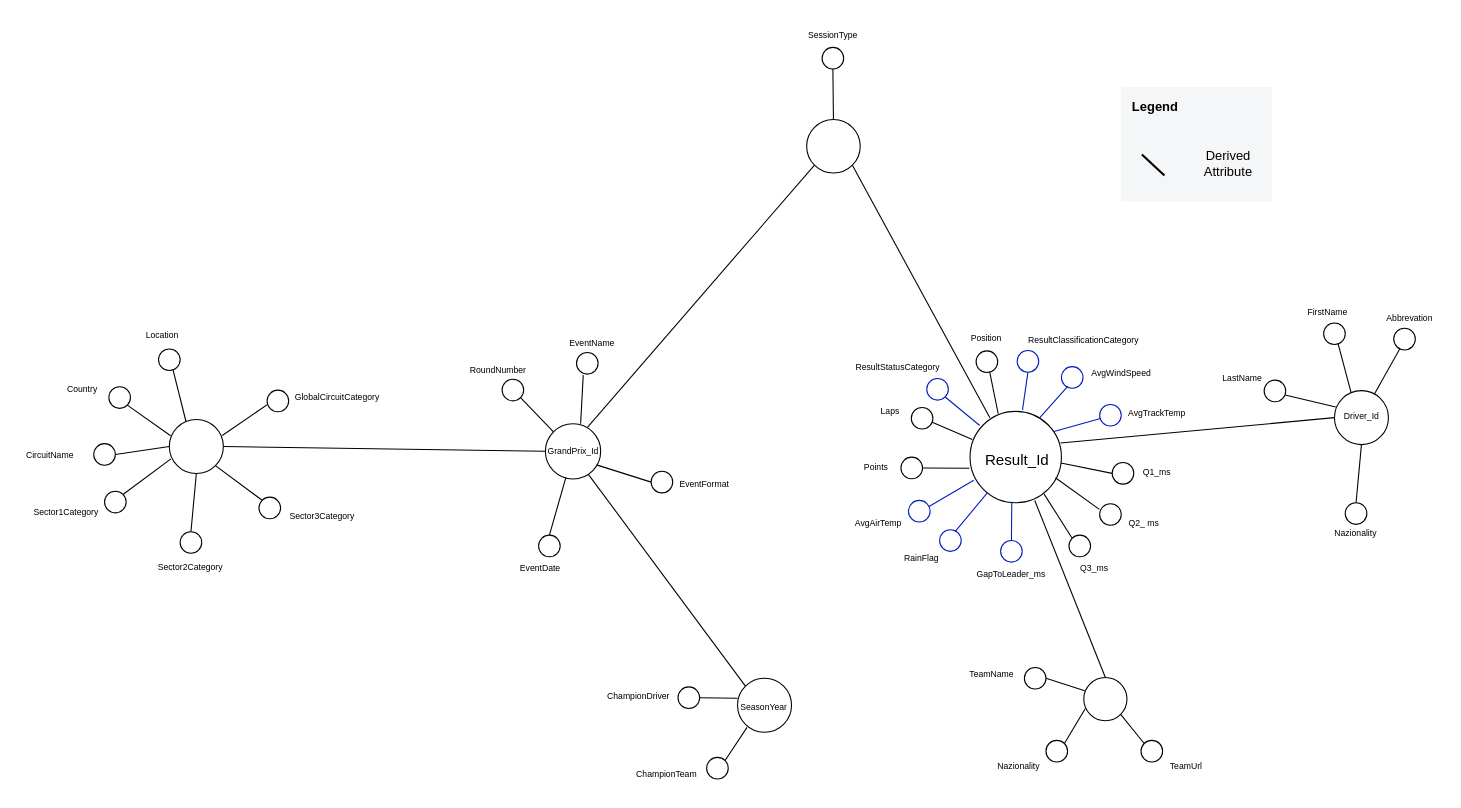
The diagram is 1461 pixels wide and 808 high, and some of its shapes have lost their labels. Here are the shapes that lost their labels. From the top down, the centre of each, then its label:
At point 833,145: "Session_Id".
At point 195,445: "Circuit_Id".
At point 1105,698: "Team_Id".
